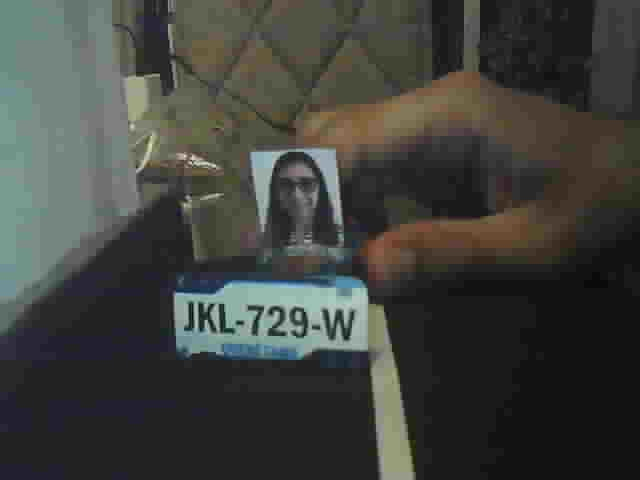PLACA: (171, 271, 371, 370)
ROSTRO: (261, 152, 343, 247)
